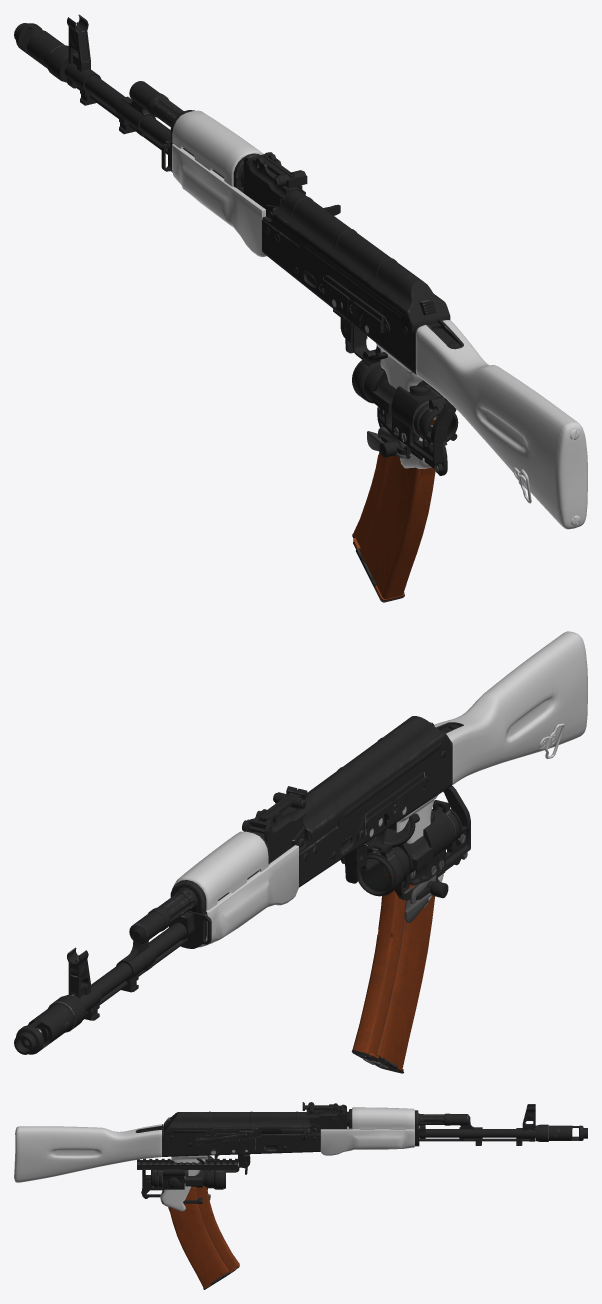
3 renders of one model, top to bottom at view 1: azimuth 30°, elevation 25°; view 2: azimuth 150°, elevation 25°; view 3: azimuth 270°, elevation 25°, orthographic. The views are drawn at different scales.
Parts seen in each view (by area): view 1: AK-74_body, AK-74_wooden_stock, AK-74_bak_mag30, AK-74_wooden_furniture, Cylinder.003, SideMount_picantiny.003, side_rail, AK-74_grip.001; view 2: AK-74_body, AK-74_wooden_stock, AK-74_bak_mag30, AK-74_wooden_furniture, Cylinder.003, SideMount_picantiny.003, side_rail, AK-74_grip.001; view 3: AK-74_body, AK-74_wooden_stock, AK-74_bak_mag30, AK-74_wooden_furniture, Cylinder.003, SideMount_picantiny.003, AK-74_grip.001.
Part boxes in pixels (x1,y1,x2,y2): AK-74_body: (14,14,463,374); AK-74_wooden_stock: (416,320,587,529); AK-74_bak_mag30: (352,415,437,602); AK-74_wooden_furniture: (172,110,266,256); Cylinder.003: (352,349,458,460); SideMount_picantiny.003: (367,370,456,475); side_rail: (318,275,390,334); AK-74_grip.001: (376,343,436,468); AK-74_body: (14,716,463,1054); AK-74_wooden_stock: (434,631,587,785); AK-74_bak_mag30: (351,869,434,1073); AK-74_wooden_furniture: (173,831,298,947); Cylinder.003: (358,800,462,900); SideMount_picantiny.003: (375,786,470,923); side_rail: (357,772,428,841); AK-74_grip.001: (396,795,443,907); AK-74_body: (135,1102,587,1174); AK-74_wooden_stock: (14,1124,161,1182); AK-74_bak_mag30: (168,1185,239,1289); AK-74_wooden_furniture: (320,1107,414,1155); Cylinder.003: (151,1155,225,1203); SideMount_picantiny.003: (137,1158,237,1200); AK-74_grip.001: (160,1155,207,1211).
Size of the model in its own units: 7.53 by 33.1 by 94.15.
